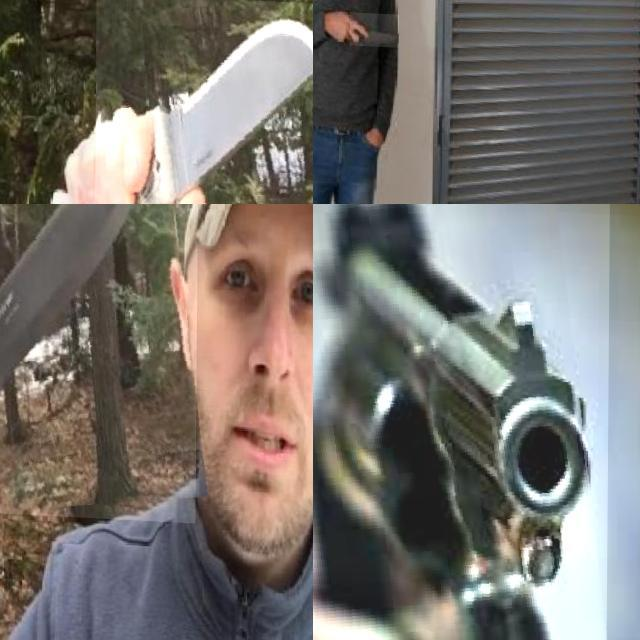-: (0, 204, 198, 518), (95, 0, 313, 204), (350, 8, 399, 44)
gun-knife-thesis - v11 Yolov5 augmented: (313, 204, 610, 640)
